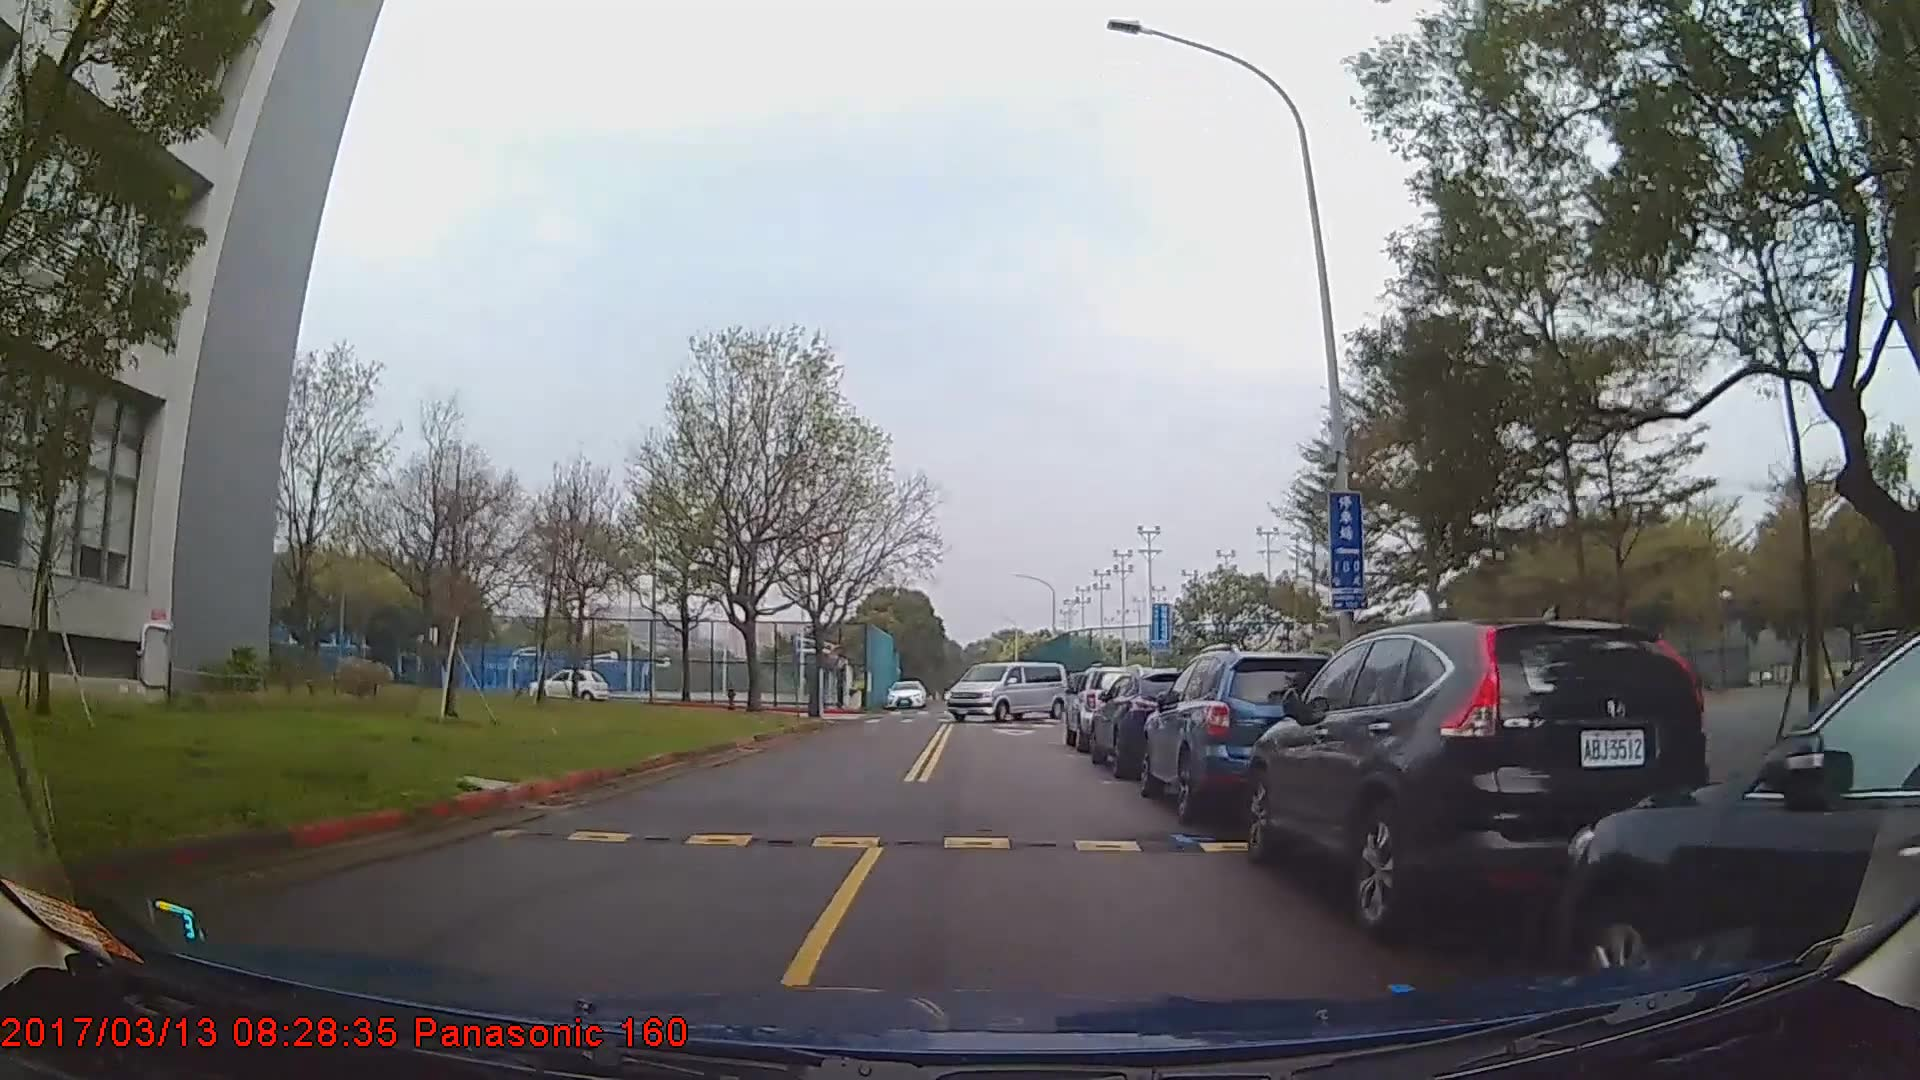vehicle: (1244, 615, 1716, 943), (1553, 622, 1920, 1025), (1135, 649, 1349, 823), (1088, 666, 1215, 777), (947, 659, 1069, 723), (527, 665, 607, 704), (884, 678, 927, 709)
